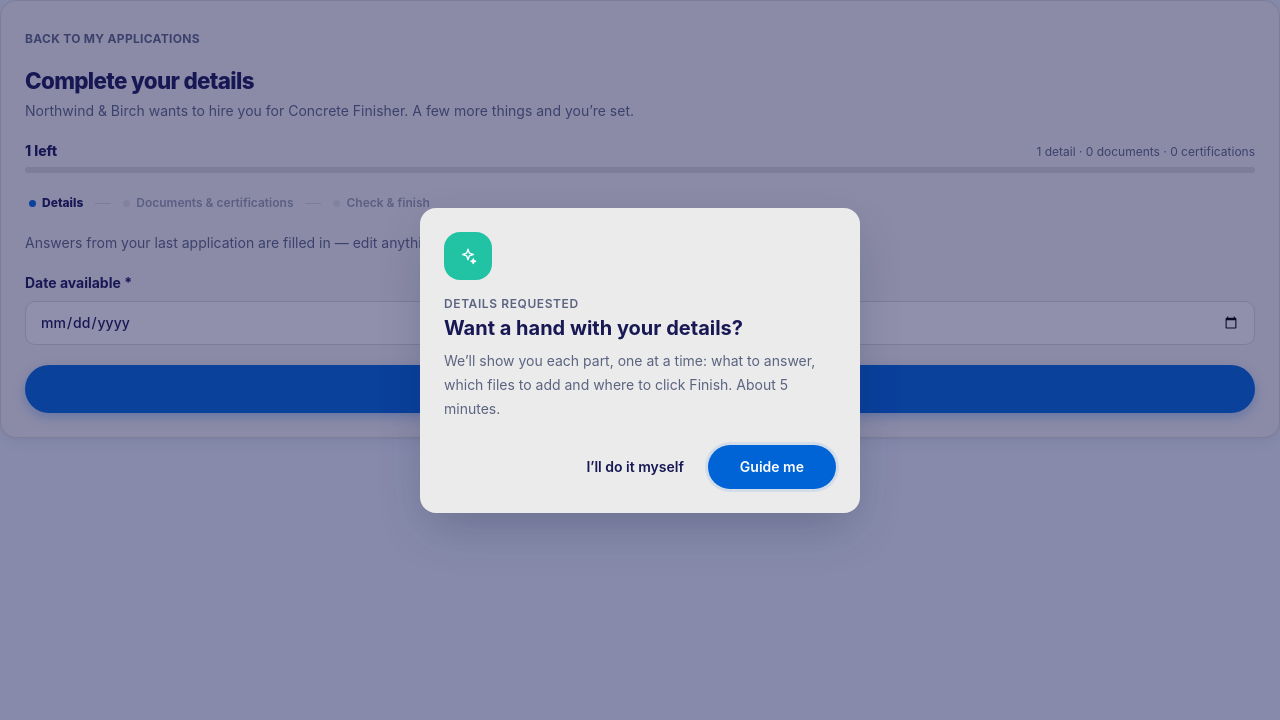
worker_details guide — where it starts › shows the stepper on the overview without letting it be pressed (a step chip saves nothing)
Click the button "Guide me" at (772,466), box [708,444,836,488]
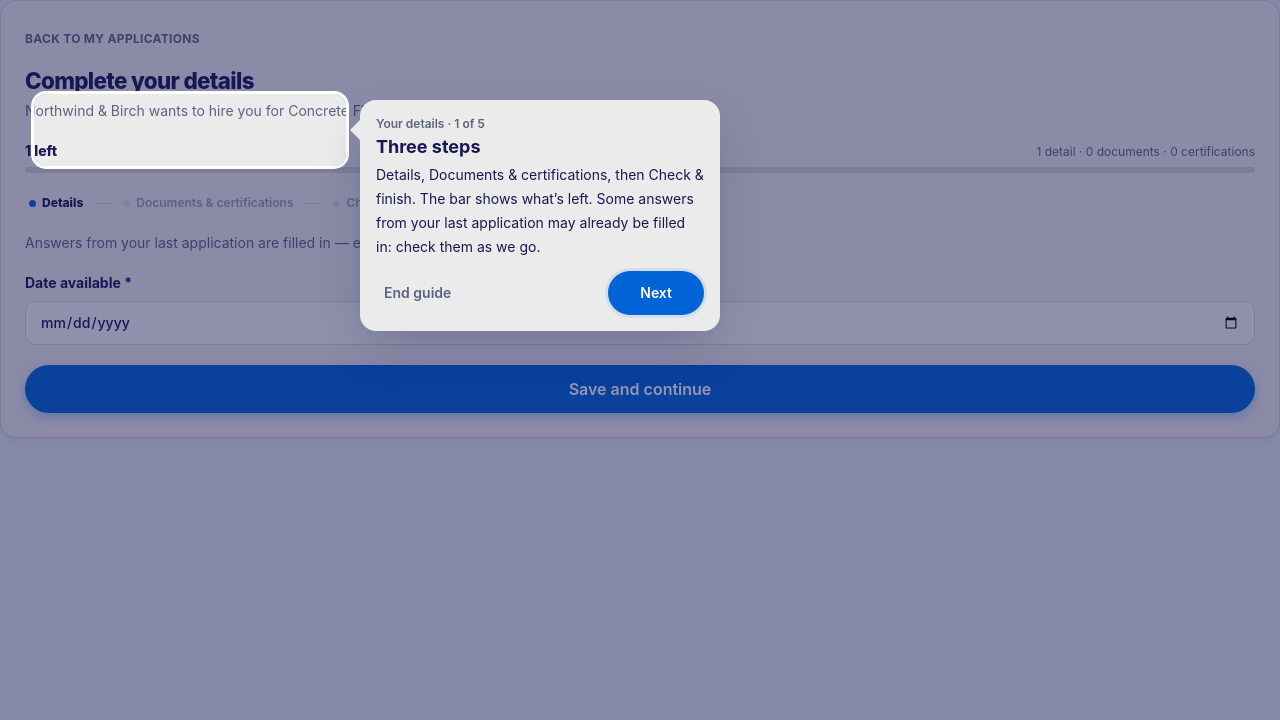
expect the dialog shows "Details, Documents & certifications, then Check & finish.": met, box [376,166,704,254]
